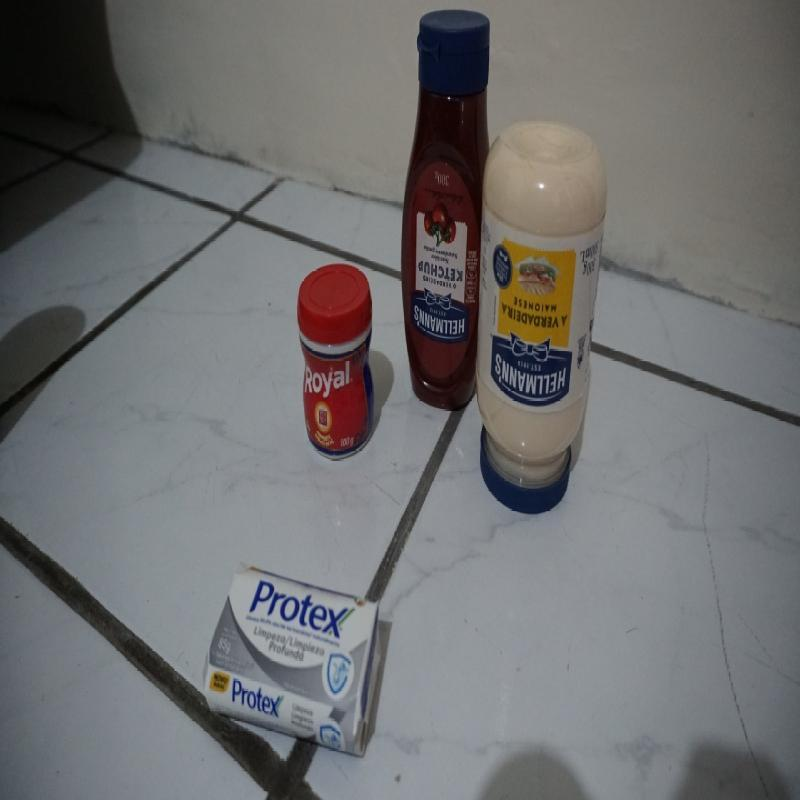Ketchup: (404, 13, 478, 408)
Mayonnaise: (481, 115, 606, 524)
Soap: (204, 560, 384, 760)
Yeast: (295, 262, 376, 461)
